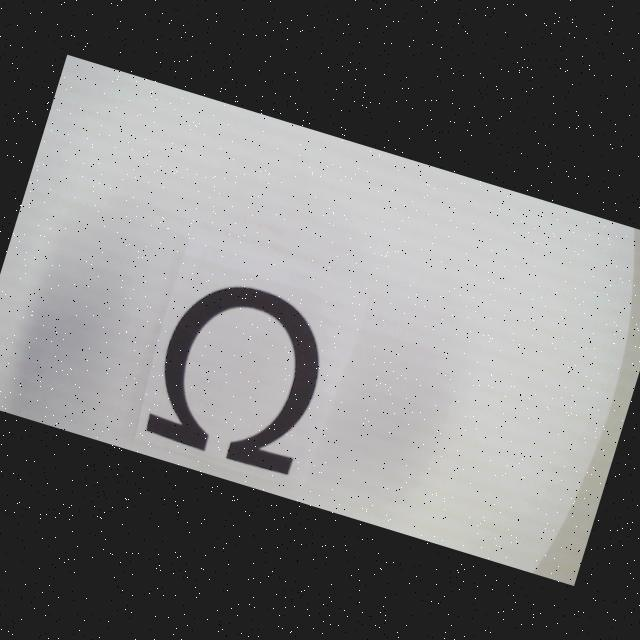OMEGA: (142, 268, 336, 476)
